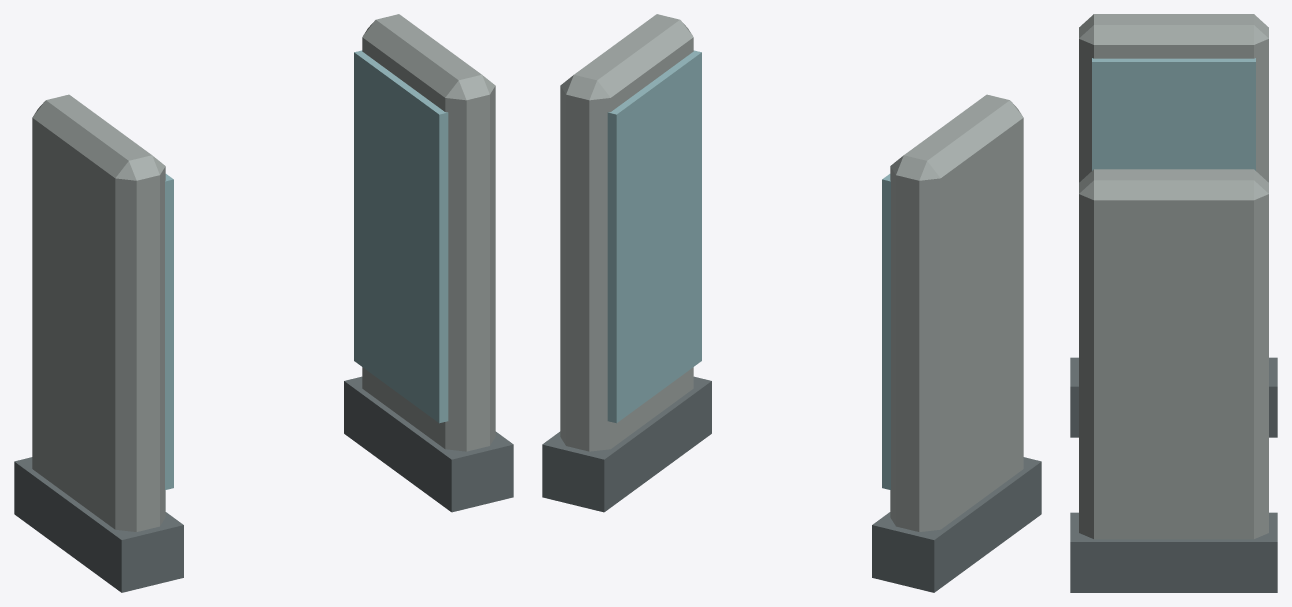
Rendered from vac_barrier.obj.
3 renders of one model, left to right at view 1: azimuth 30°, elevation 25°; view 2: azimuth 150°, elevation 25°; view 3: azimuth 270°, elevation 25°, orthographic. The views are drawn at different scales.
Visible parts, largest first — view 1: vac_barrier; view 2: vac_barrier; view 3: vac_barrier.
Part boxes in pixels (bbox=[...]): vac_barrier: bbox=[14, 14, 513, 592]; vac_barrier: bbox=[542, 14, 1041, 592]; vac_barrier: bbox=[1070, 14, 1277, 592].
Size of the model in its own units: 1.01 by 1.03 by 0.48.
